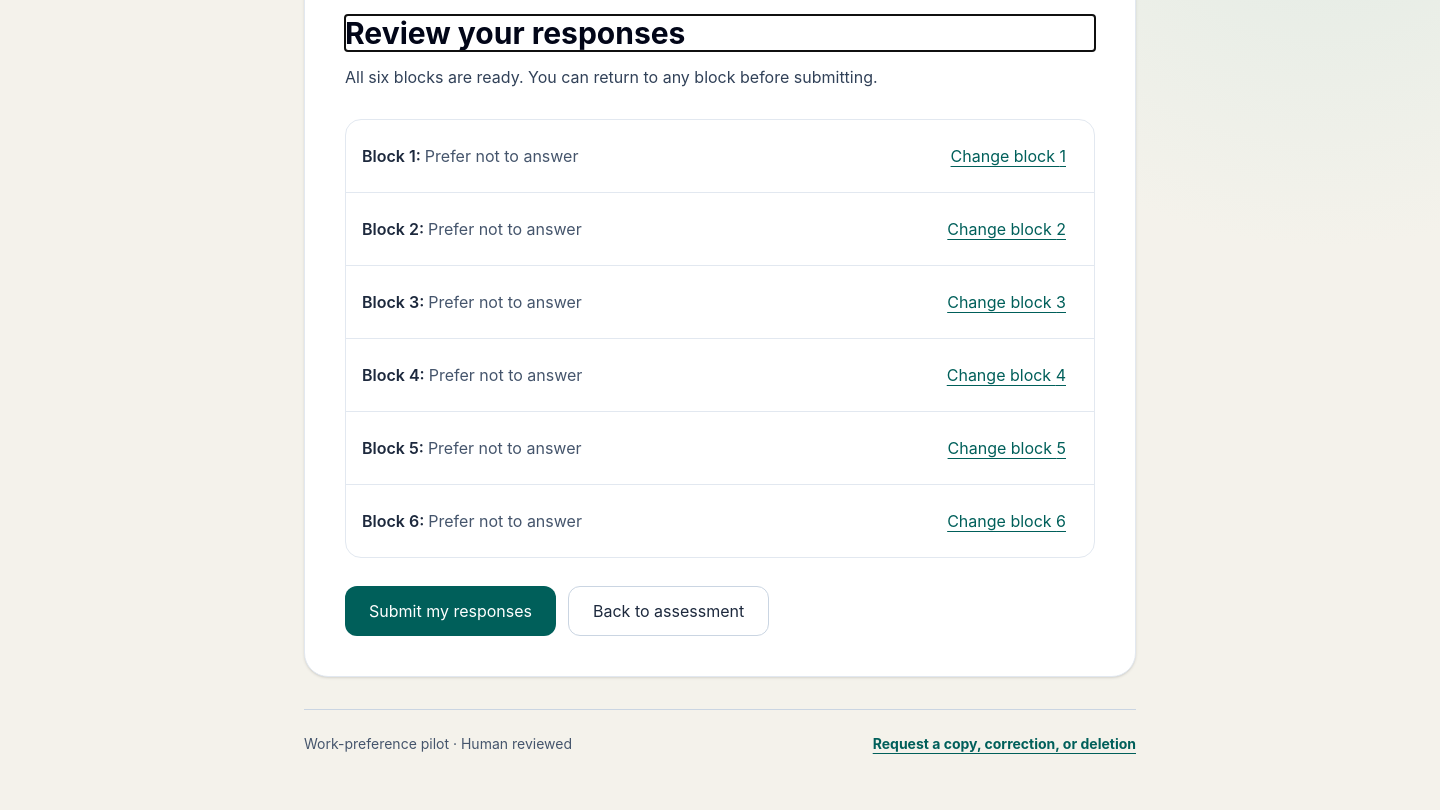
Test: CandidateAssessment › requires server acknowledgement, preserves legacy responses, and permits retries
The width and height of the screenshot is (1440, 810).
(page scrolled)
Check: the heading "Review your responses" is shown, box left=345, top=15, right=685, bottom=51
What coordinates should you click on to do the following:
click the button "Submit my responses"
I would click on:
 (450, 611)
Its box is left=345, top=586, right=556, bottom=636.
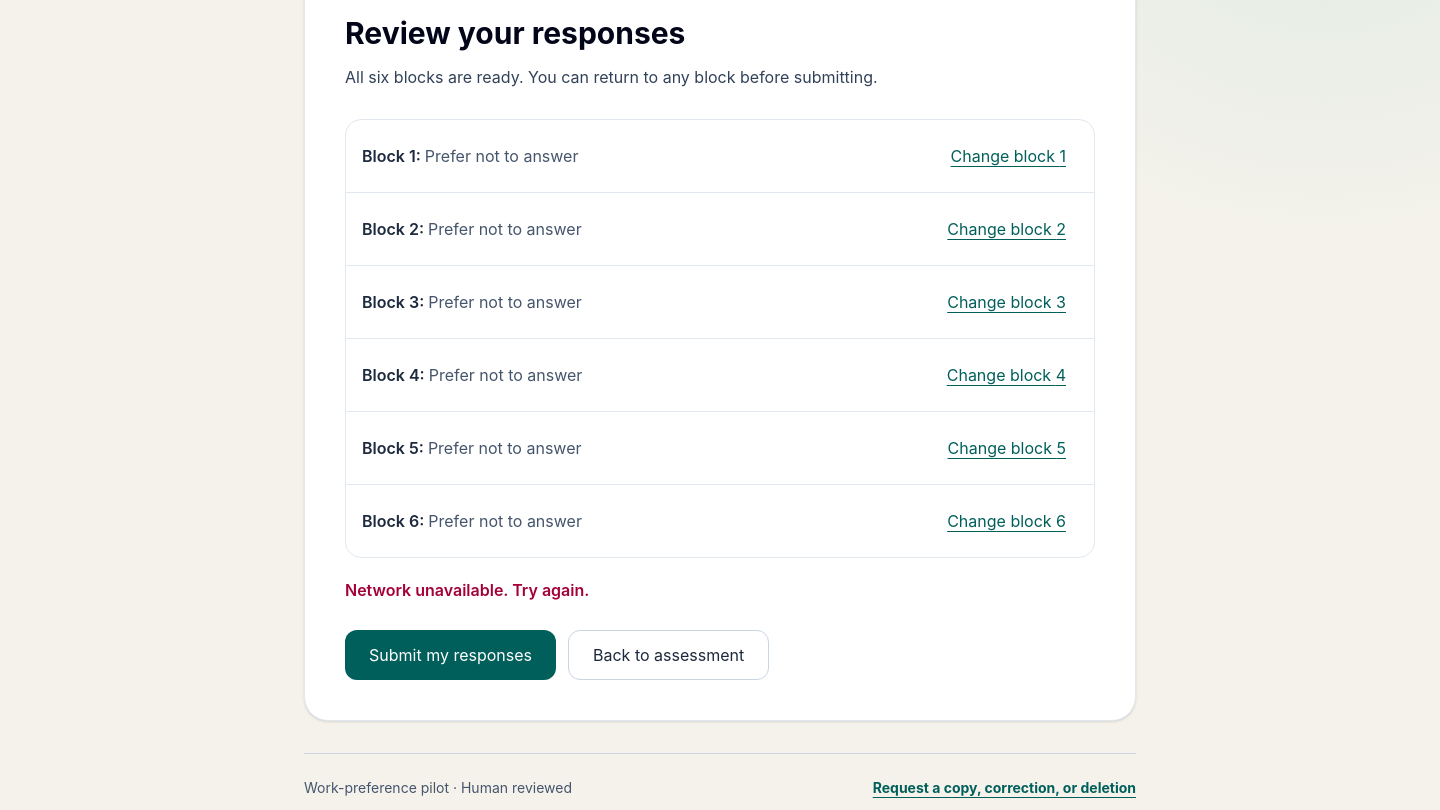
Check: the heading "Your responses are complete" is not shown
Check: the message shows "Network unavailable", box left=345, top=580, right=589, bottom=600
What coordinates should you click on to do the following:
click the button "Submit my responses"
I would click on:
 (450, 655)
Its box is left=345, top=630, right=556, bottom=680.
(page scrolled)
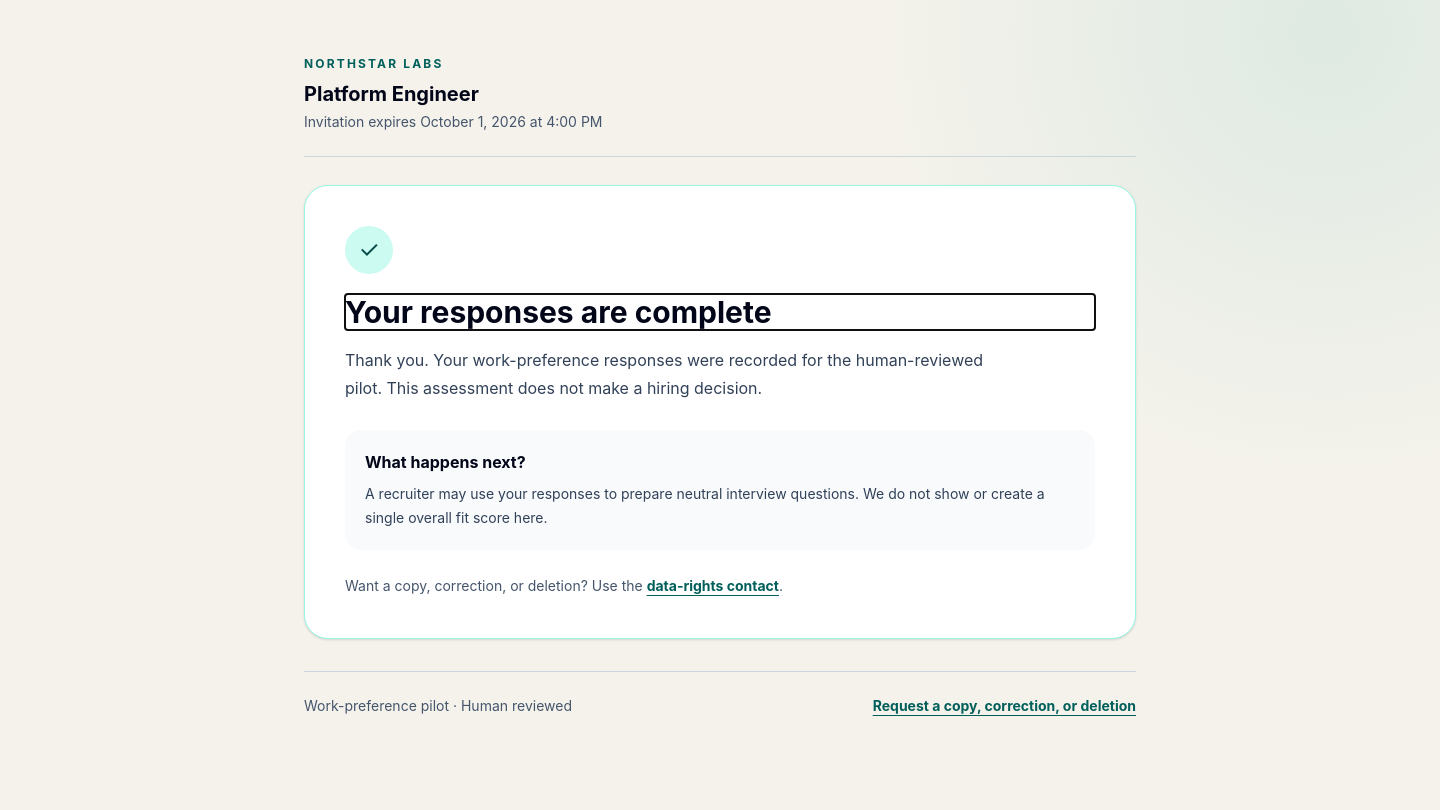
Check: the heading "Your responses are complete" is shown, box left=345, top=294, right=772, bottom=330
